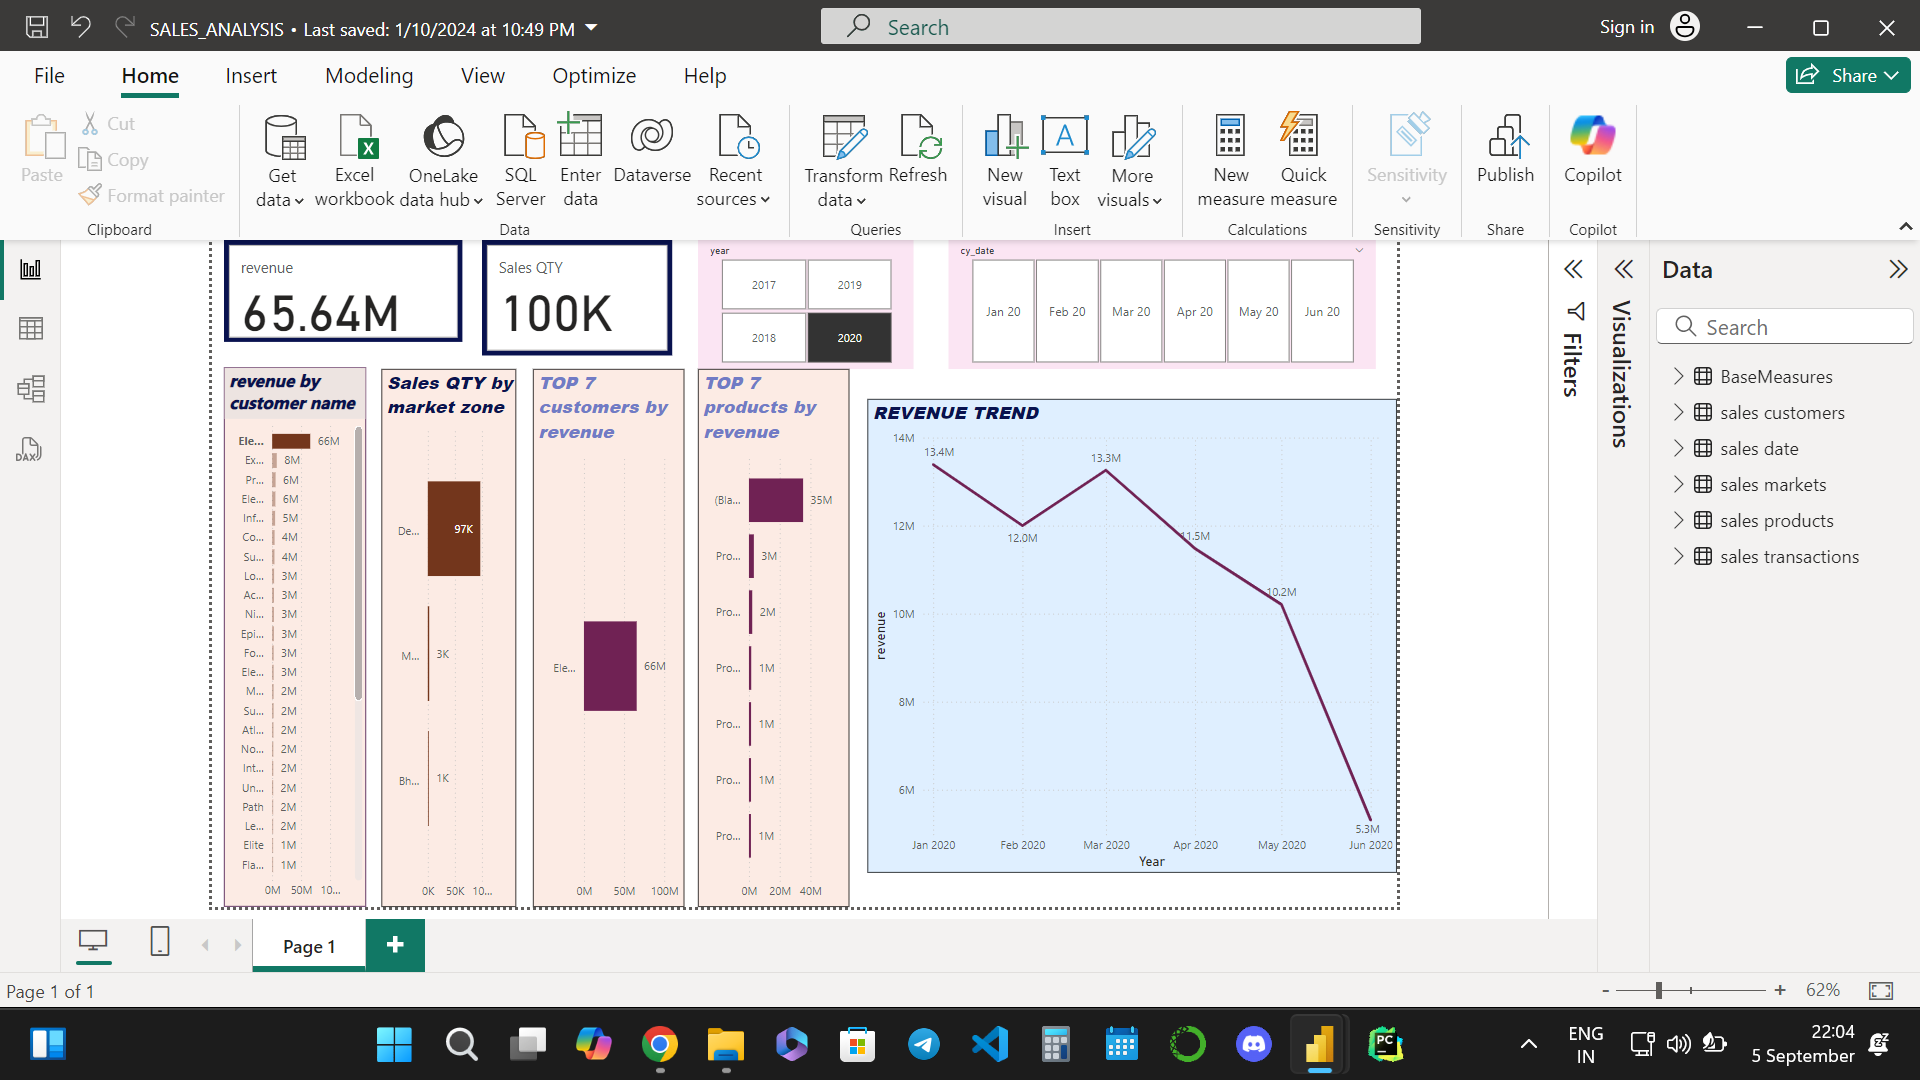

The page's visual inventory and layout, read from the dashboard file:
{"tool":"powerbi","page":{"name":"Page 1","canvas":[1280,720],"ordinal":0},"visuals":[{"type":"cardVisual","fields":{"Data":["BaseMeasures.revenue"]},"box":[12.9,0,257.3,110],"z":0},{"type":"cardVisual","fields":{"Data":["BaseMeasures.Sales QTY"]},"box":[291.2,0,205.5,124.6],"z":1000},{"type":"barChart","title":"revenue by customer name","fields":{"Y":["BaseMeasures.revenue"],"Category":["sales customers.custmer_name"]},"box":[13.3,138.3,153.3,581.7],"z":2000},{"type":"slicer","fields":{"Values":["sales date.year"]},"box":[524.2,0,233,139.1],"z":3000},{"type":"slicer","fields":{"Values":["sales date.cy_date"]},"box":[794.4,0,461.1,139.1],"z":4000},{"type":"barChart","title":"Sales QTY by market zone","fields":{"Y":["BaseMeasures.Sales QTY"],"Category":["sales markets.markets_name"]},"box":[182.8,139.1,145.6,580.9],"z":5000},{"type":"barChart","title":"TOP 7 customers by revenue","fields":{"Y":["BaseMeasures.revenue"],"Category":["sales customers.custmer_name"]},"box":[346.2,139.1,163.4,580.9],"z":6000},{"type":"barChart","title":"TOP 7 products by revenue","fields":{"Y":["BaseMeasures.revenue"],"Category":["sales products.product_code"]},"box":[524.2,139.1,163.4,580.9],"z":7000},{"type":"lineChart","title":"REVENUE TREND","fields":{"Y":["BaseMeasures.revenue"],"Category":["sales date.cy_date.Variation.Date Hierarchy.Year","sales date.cy_date.Variation.Date Hierarchy.Quarter","sales date.cy_date.Variation.Date Hierarchy.Month","sales date.cy_date.Variation.Date Hierarchy.Day"]},"box":[707.1,171.5,571.1,511.3],"z":8000}]}

Visuals, with their boxes on the page's 1280x720 design canvas (x1, y1, x2, y2). These are canvas units, not pixel positions in the 1920x1080 screenshot, which may show the page scaled, cropped or inside an application window:
cardVisual - BaseMeasures.revenue: select_region(13, 0, 270, 110)
cardVisual - BaseMeasures.Sales QTY: select_region(291, 0, 497, 125)
"revenue by customer name" barChart: select_region(13, 138, 167, 720)
slicer - sales date.year: select_region(524, 0, 757, 139)
slicer - sales date.cy_date: select_region(794, 0, 1256, 139)
"Sales QTY by market zone" barChart: select_region(183, 139, 328, 720)
"TOP 7 customers by revenue" barChart: select_region(346, 139, 510, 720)
"TOP 7 products by revenue" barChart: select_region(524, 139, 688, 720)
"REVENUE TREND" lineChart: select_region(707, 172, 1278, 683)
